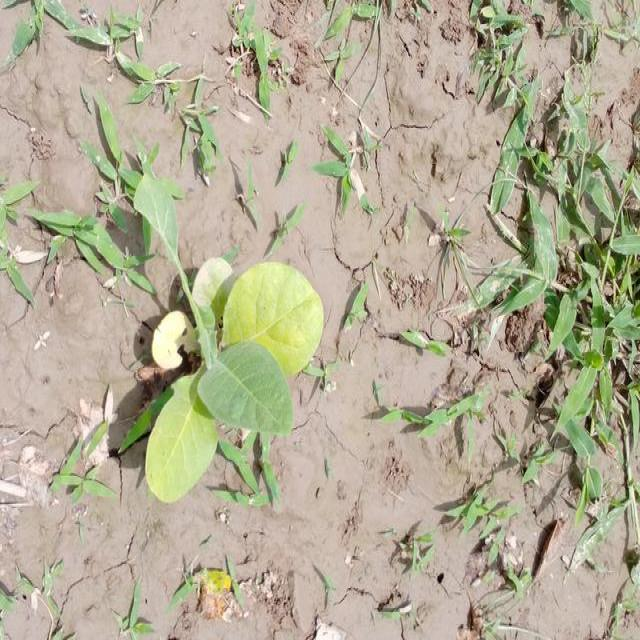crop: (127, 168, 326, 502)
